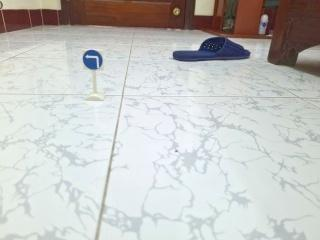left: (79, 39, 109, 74)
